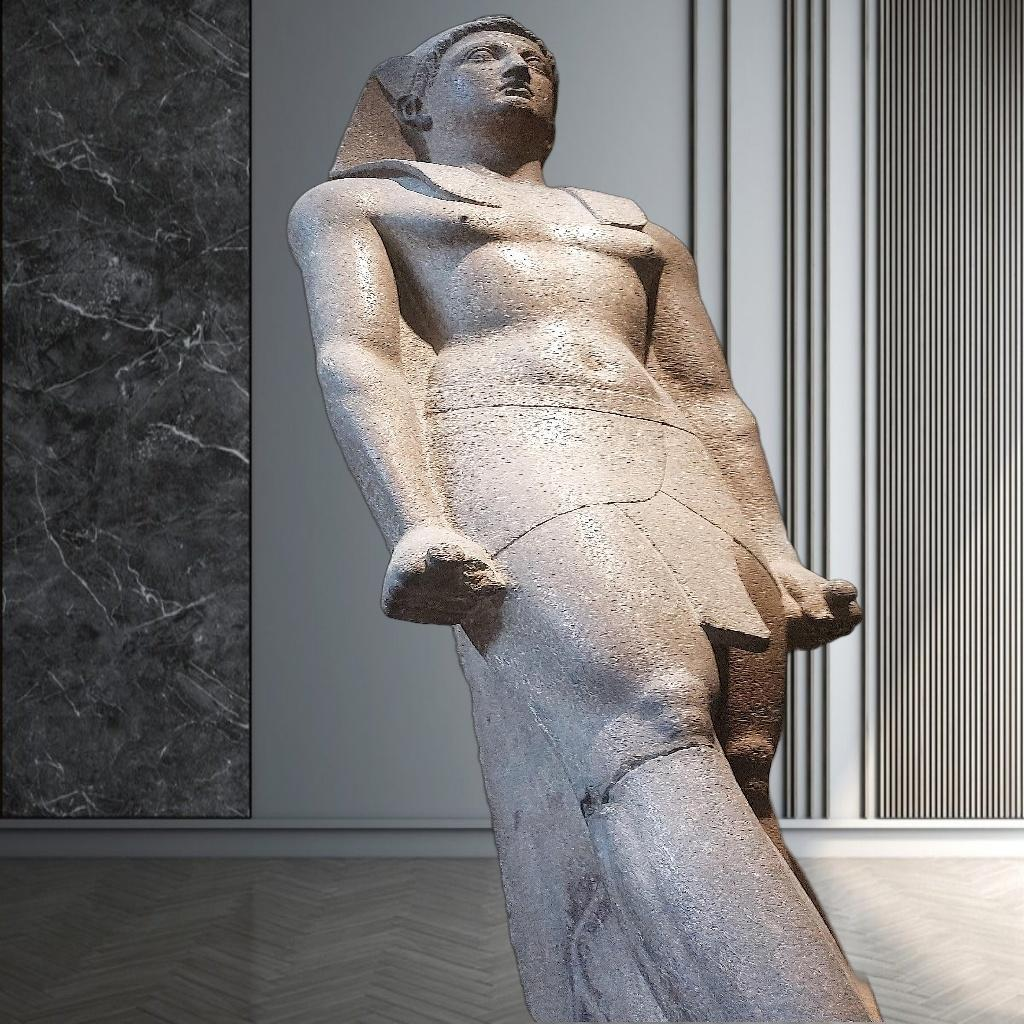Augustus: (284, 14, 886, 1022)
